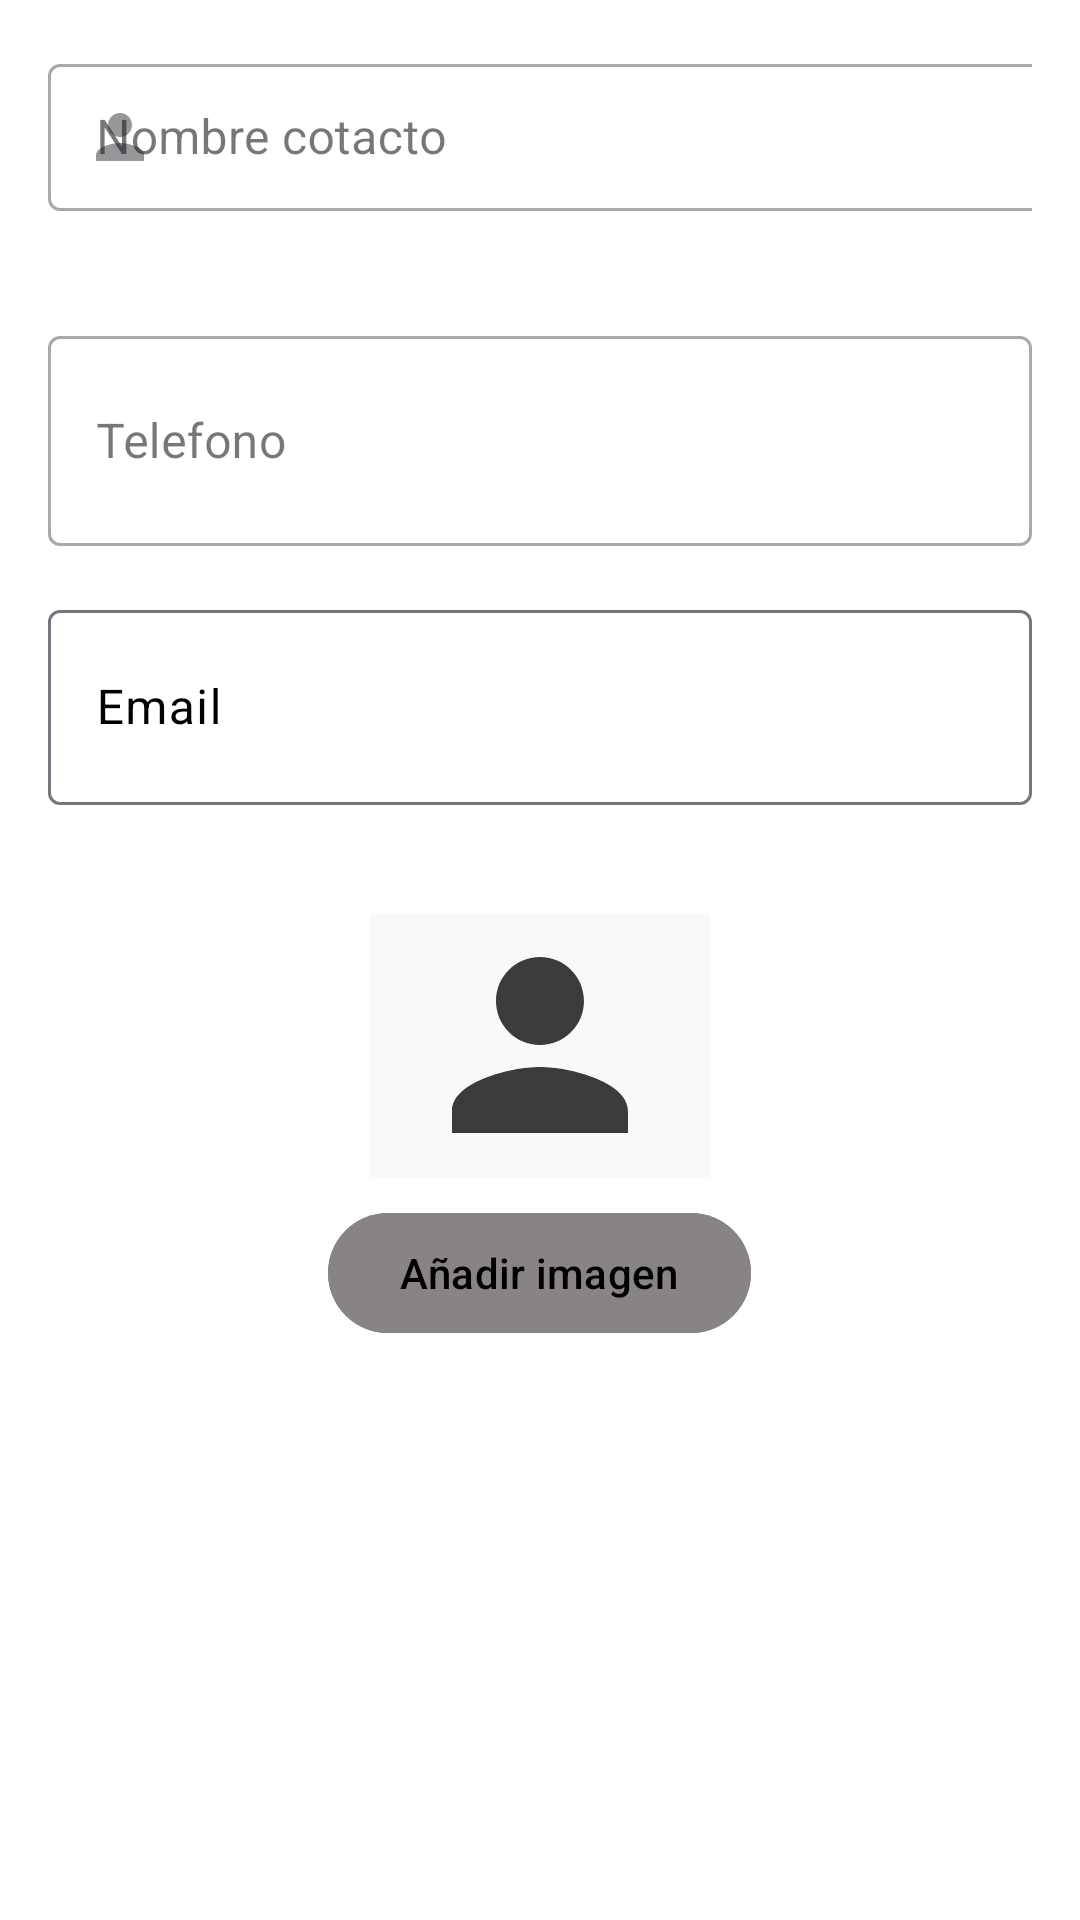

Point at icon controls on the screen. Image size 1080x1920, points as point (x, y).
person: point (540, 1045)
